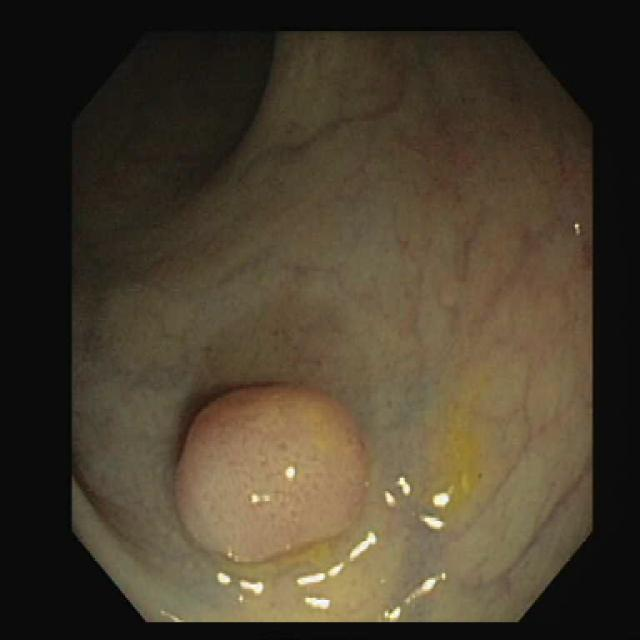tumor: (177, 387, 365, 560)
